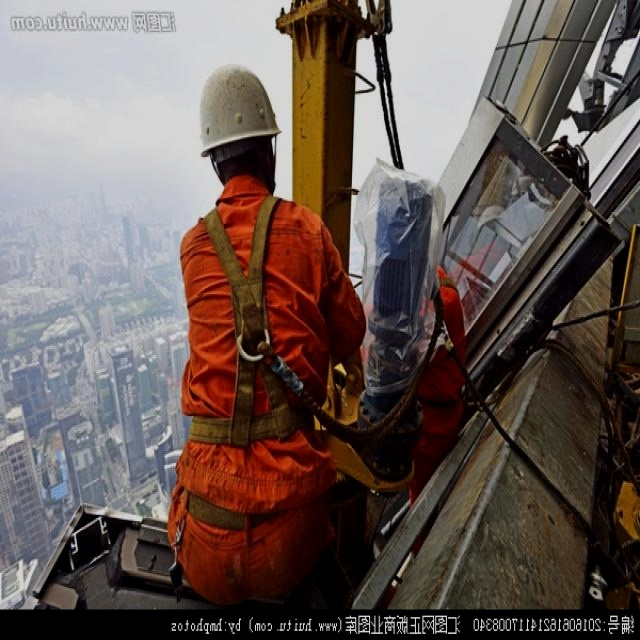Con_Casco: (199, 65, 275, 190)
